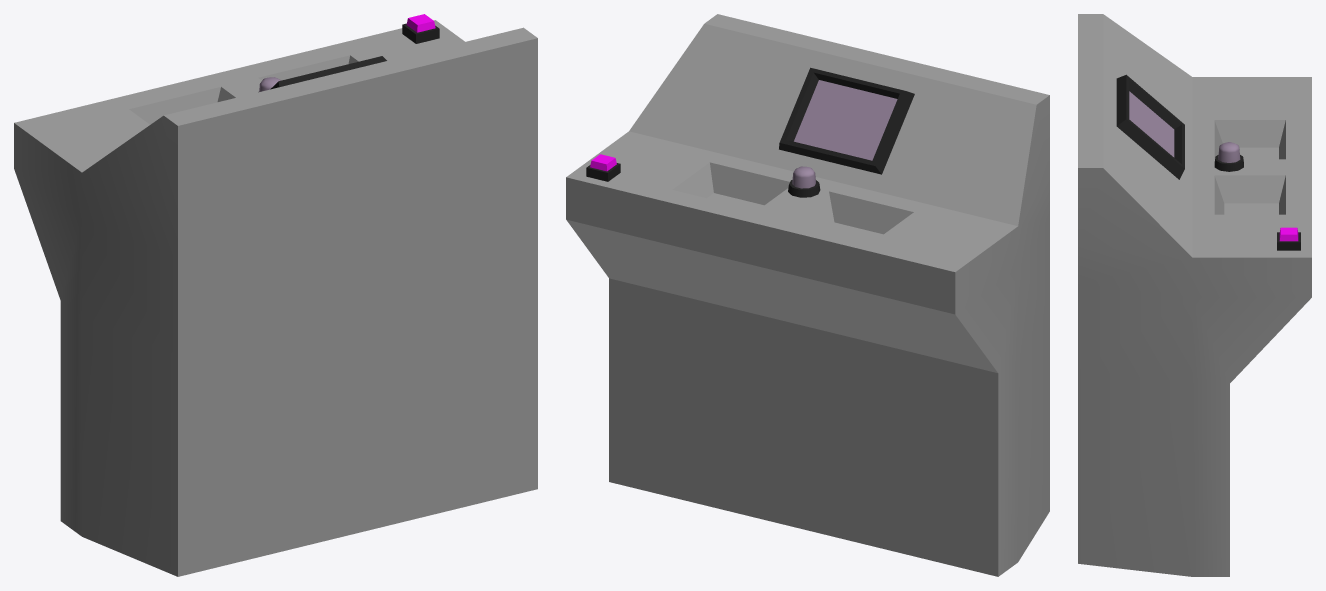
Rendered from RepairablePanel.fbx.
The picture shows the model from 3 angles, left to right: view 1: azimuth 30°, elevation 25°; view 2: azimuth 150°, elevation 25°; view 3: azimuth 270°, elevation 25°; orthographic projection. The views are drawn at different scales.
Visible parts, largest first — view 1: Console, ScreenFrame; view 2: Console, Screen, ScreenFrame; view 3: Console, ScreenFrame, Screen, Light, LightBase.
Boxes of the visible parts, box(x1,y1,x2,y2) form: Console: box(14, 20, 537, 576); ScreenFrame: box(270, 56, 386, 89); Console: box(566, 14, 1049, 576); Screen: box(794, 80, 897, 160); ScreenFrame: box(779, 67, 914, 174); Console: box(1078, 14, 1311, 576); ScreenFrame: box(1116, 74, 1184, 179); Screen: box(1129, 91, 1174, 157); Light: box(1218, 142, 1240, 162); LightBase: box(1214, 155, 1243, 171).
Bounding box in the file's own units: 6.88 × 7.03 × 3.76.
